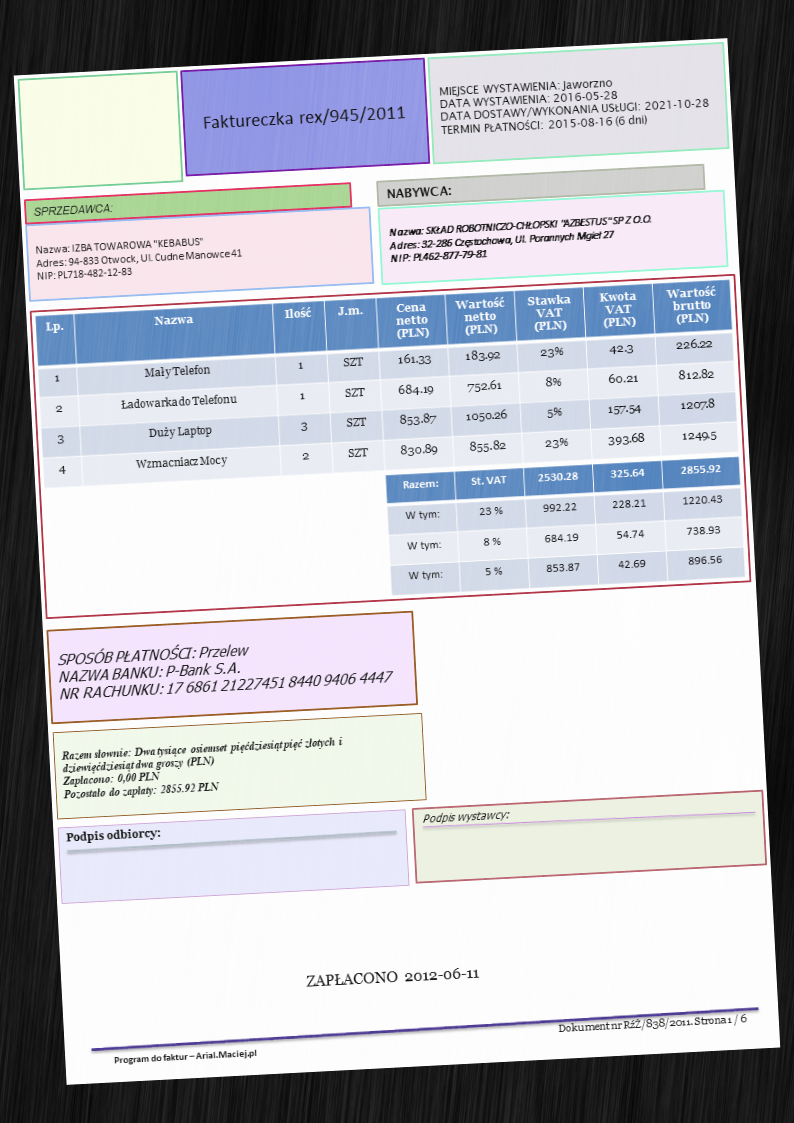Table: (33, 278, 739, 490), (384, 455, 747, 597)
TextBox: (56, 633, 395, 705), (58, 733, 347, 802), (436, 70, 712, 139), (385, 211, 655, 266), (31, 231, 245, 283), (199, 102, 407, 135), (556, 1010, 750, 1038), (301, 964, 481, 990), (111, 1046, 259, 1066), (63, 825, 164, 846), (420, 807, 510, 827), (30, 199, 115, 220), (384, 181, 453, 202)
